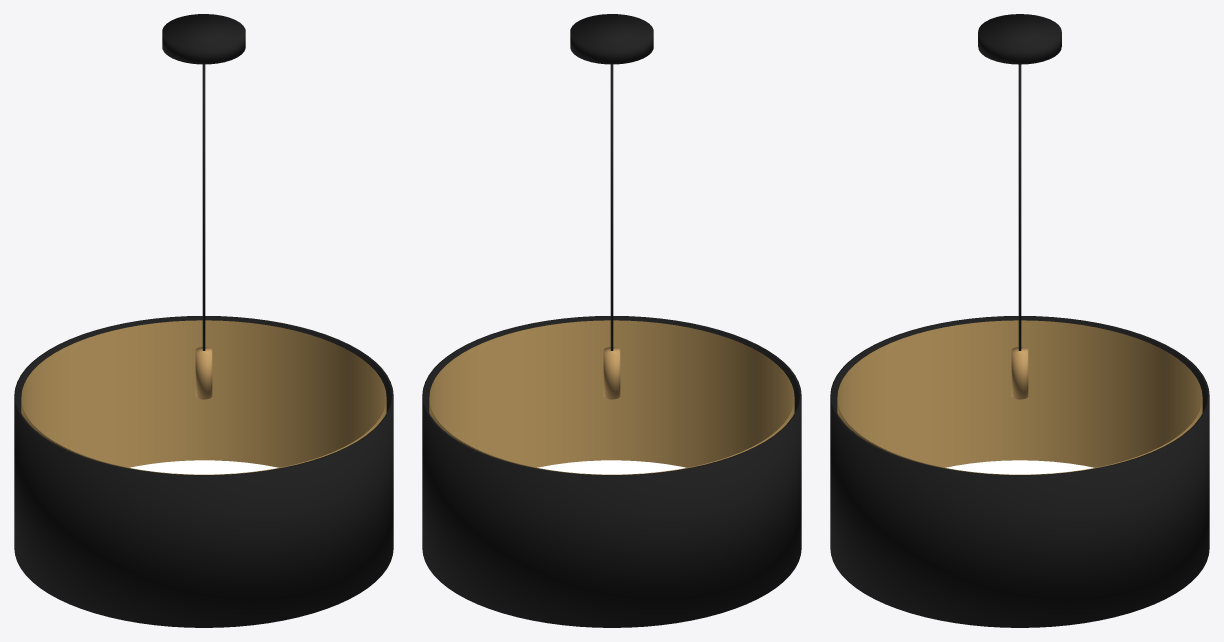
3 views of the same model, side by side, from view 1: azimuth 30°, elevation 25°; view 2: azimuth 150°, elevation 25°; view 3: azimuth 270°, elevation 25° (orthographic).
Visible parts, largest first — view 1: aether-sky-v1-ceiling-lamp; view 2: aether-sky-v1-ceiling-lamp; view 3: aether-sky-v1-ceiling-lamp.
Boxes of the visible parts, left/top/right/bottom form: aether-sky-v1-ceiling-lamp: left=14, top=14, right=393, bottom=627; aether-sky-v1-ceiling-lamp: left=422, top=14, right=801, bottom=627; aether-sky-v1-ceiling-lamp: left=830, top=14, right=1209, bottom=627.
Bounding box in the file's own units: 0.453 × 0.68 × 0.453.
